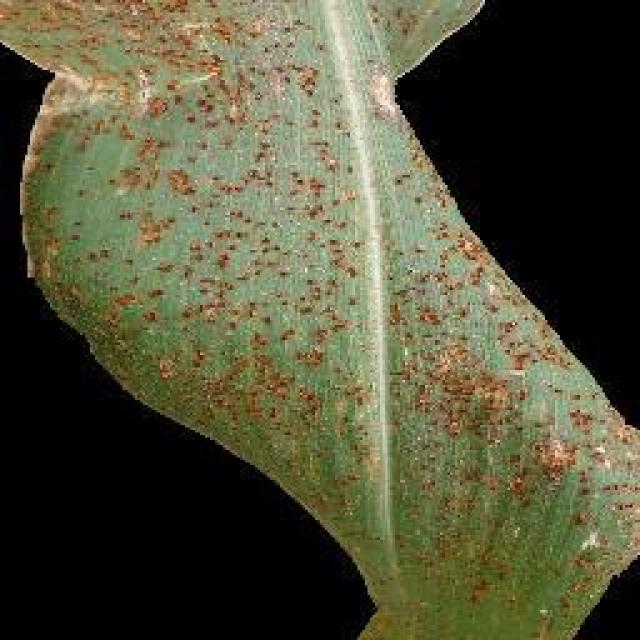Corn Common Rust: (55, 0, 581, 588)
